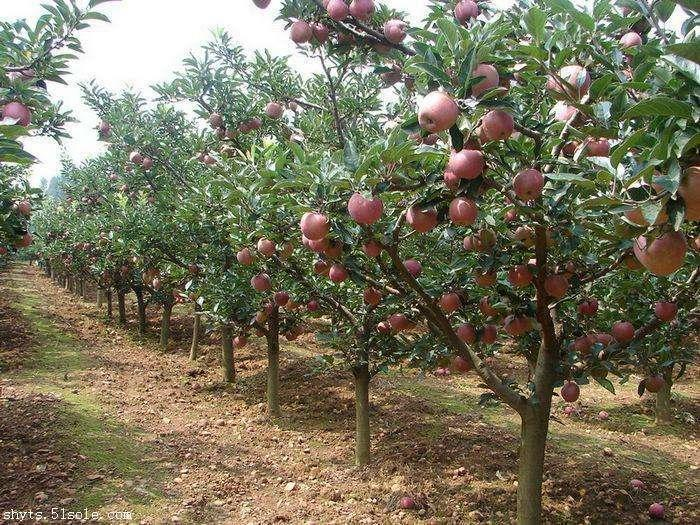apple: (631, 227, 686, 275), (417, 91, 460, 133), (551, 67, 590, 98), (347, 194, 383, 224), (483, 109, 513, 140), (449, 197, 478, 227), (513, 170, 542, 200), (409, 200, 438, 230), (453, 149, 482, 178), (301, 211, 330, 240), (576, 137, 609, 159), (3, 102, 27, 127), (384, 19, 408, 44), (290, 19, 314, 44), (455, 1, 479, 25), (352, 1, 376, 25), (327, 1, 348, 21), (327, 263, 346, 284), (619, 30, 641, 47)
